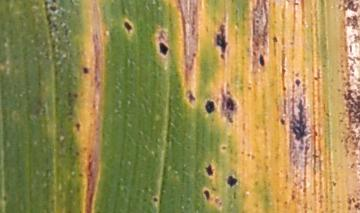tarspot: (290, 99, 307, 140), (215, 24, 228, 57), (224, 96, 235, 112), (158, 41, 169, 56), (122, 20, 133, 34), (205, 100, 216, 114), (226, 176, 239, 187), (201, 188, 211, 202), (205, 164, 214, 178), (258, 51, 266, 66), (187, 93, 197, 104), (49, 5, 58, 13), (82, 66, 90, 74), (272, 35, 279, 44), (219, 144, 228, 151), (75, 123, 81, 133), (279, 118, 286, 126), (295, 78, 301, 87), (72, 92, 79, 98), (153, 196, 158, 203)
